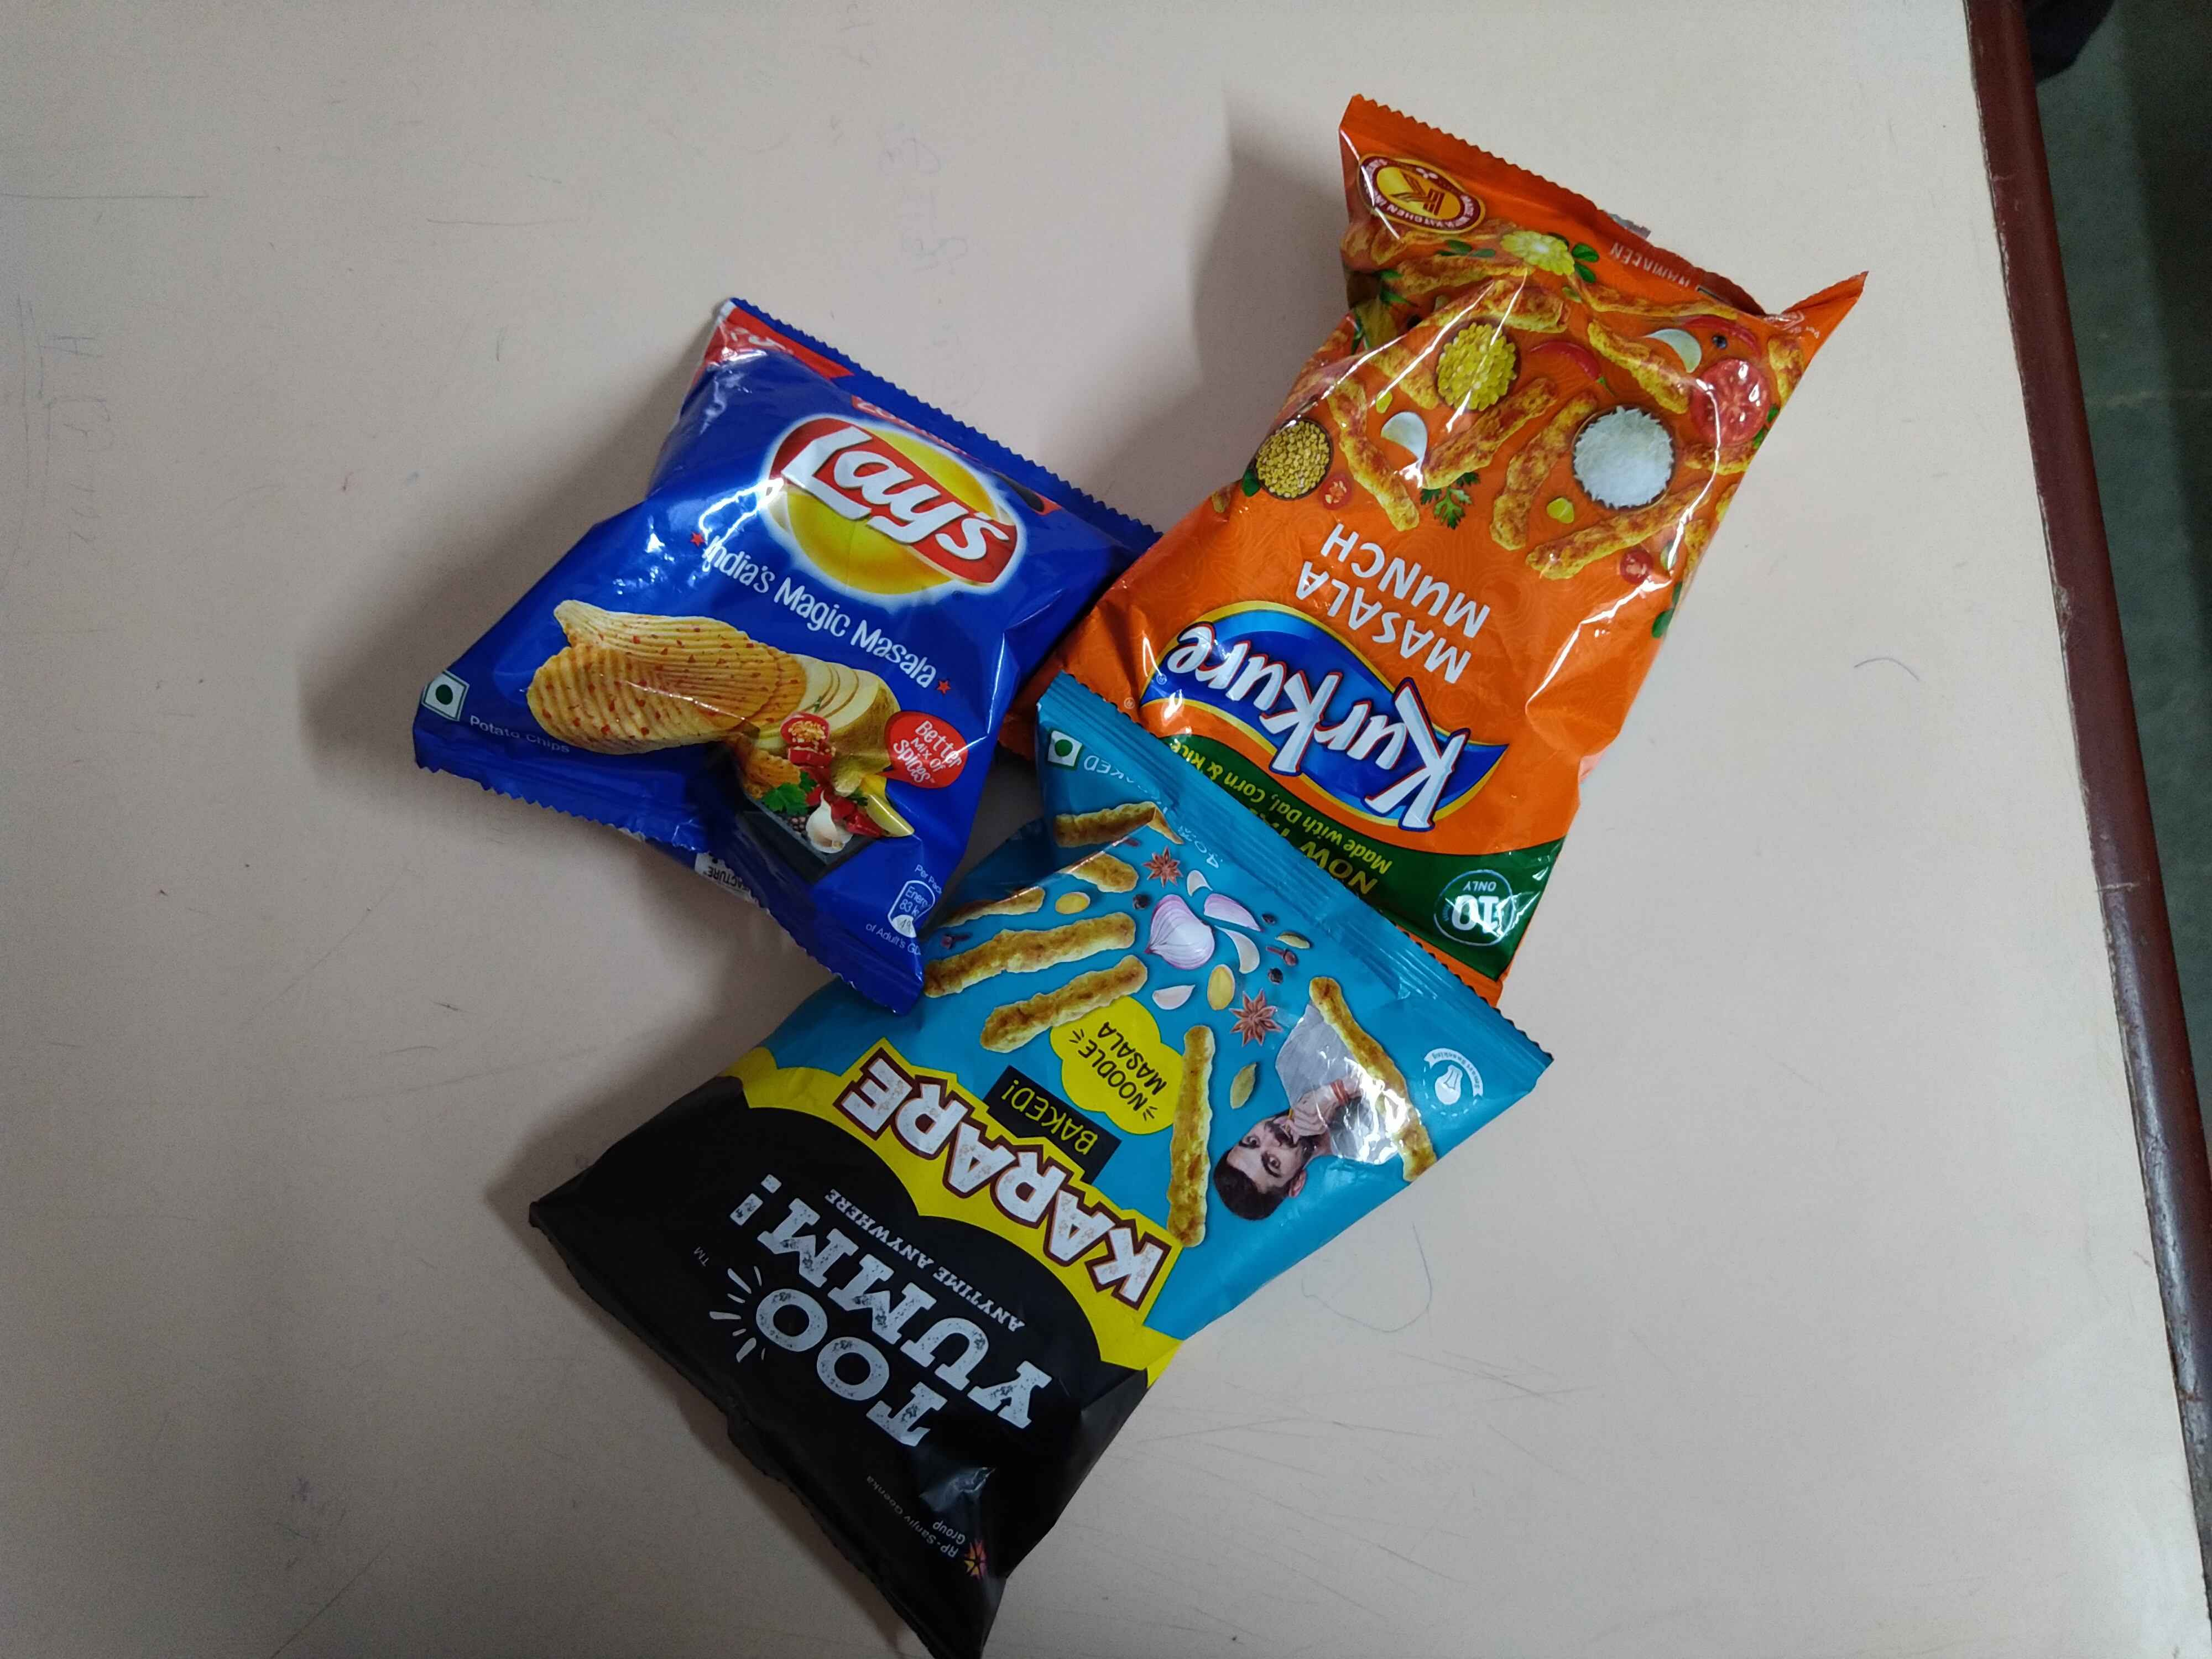Lays: (759, 397, 1038, 610)
kurkure: (1158, 619, 1491, 816)
tooyumm: (705, 1173, 1059, 1448)
